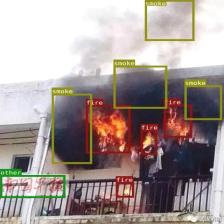fire: (86, 105, 130, 153), (164, 104, 192, 138), (140, 130, 157, 155), (116, 182, 134, 197)
smoke: (51, 94, 92, 164), (113, 66, 167, 108), (144, 0, 194, 40), (184, 85, 222, 120)
